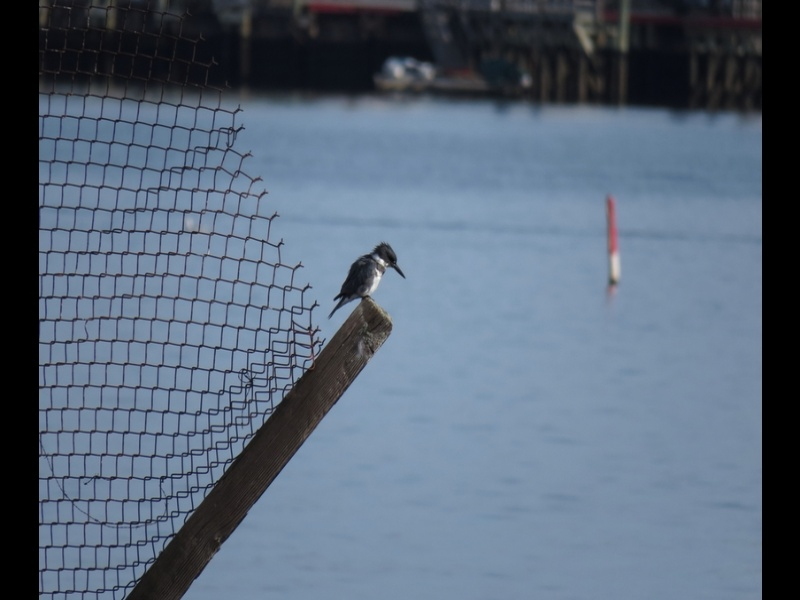kingfisher: (329, 239, 407, 319)
